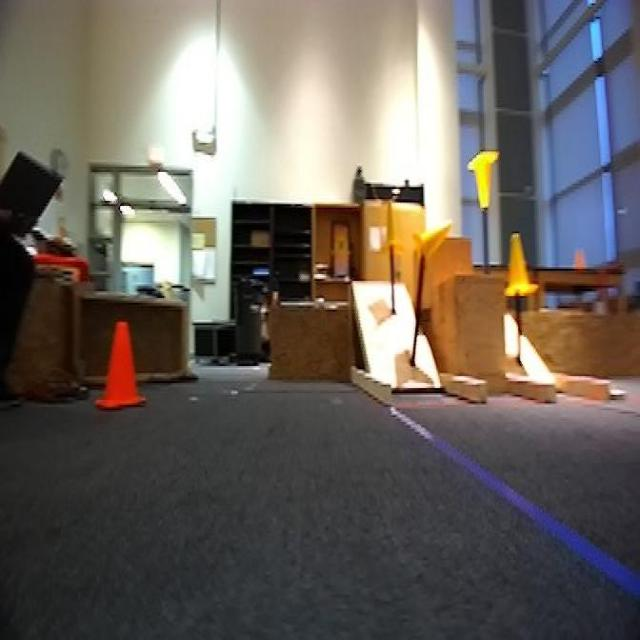frc_cone: (469, 148, 502, 215), (502, 236, 536, 298), (414, 224, 454, 270), (379, 194, 404, 250)
